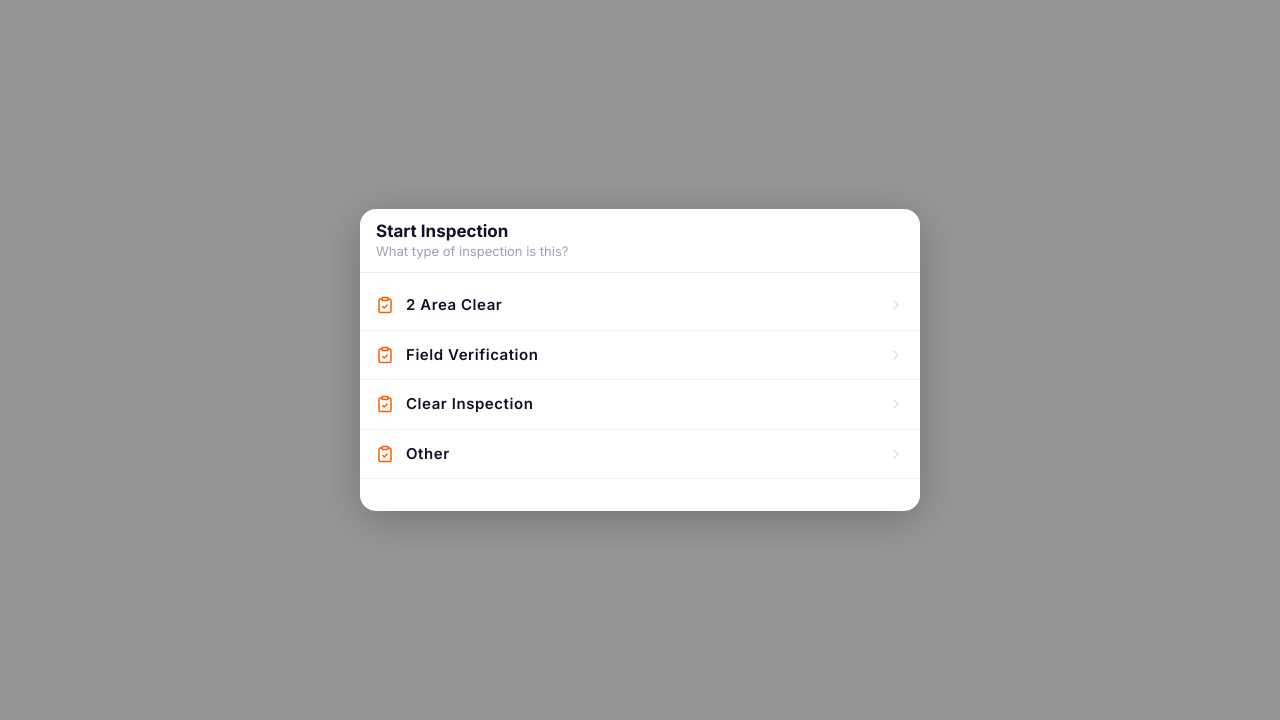
StartInspectionSheet › locks Clear Inspection scopes without a subcontractor
Check: the text "Clear Inspection" is shown, box [406,394,533,413]
Click the button "Clear Inspection": (470, 404) [360,380,920,430]
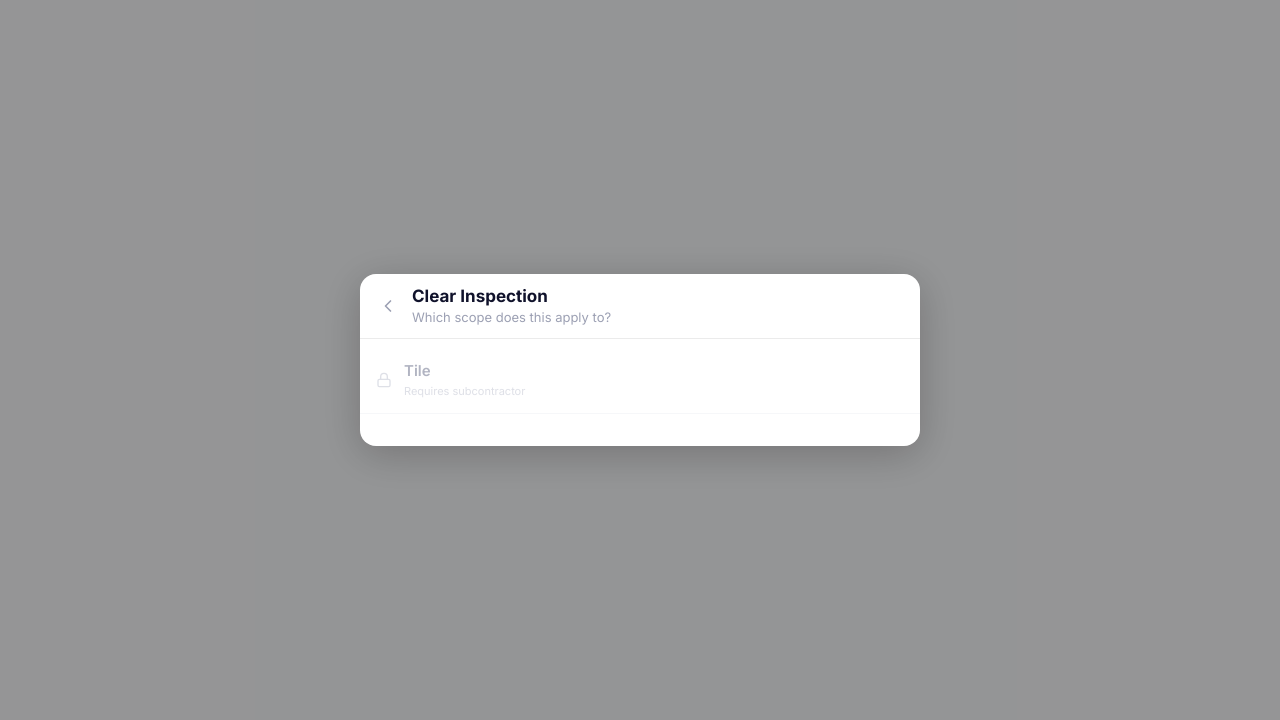
Check: the text "Requires subcontractor" is shown, box [404,384,525,398]
